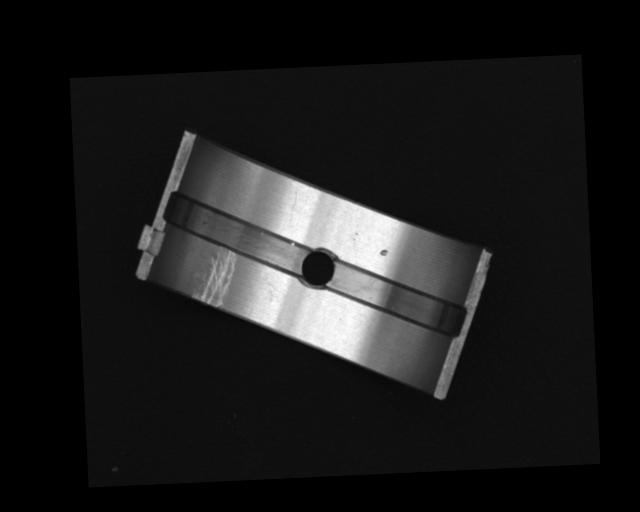bruise: (379, 247, 389, 257)
gap: (165, 185, 311, 279), (327, 259, 465, 341)
hole: (300, 247, 336, 288)
nick: (287, 185, 299, 221)
scratch: (191, 246, 238, 308)
